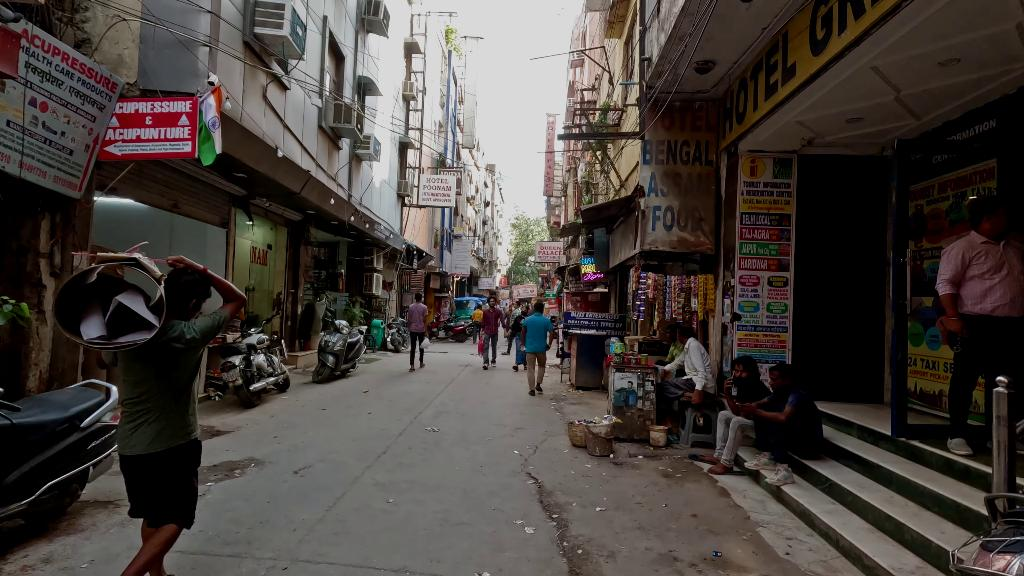dustbin: (563, 417, 617, 456)
